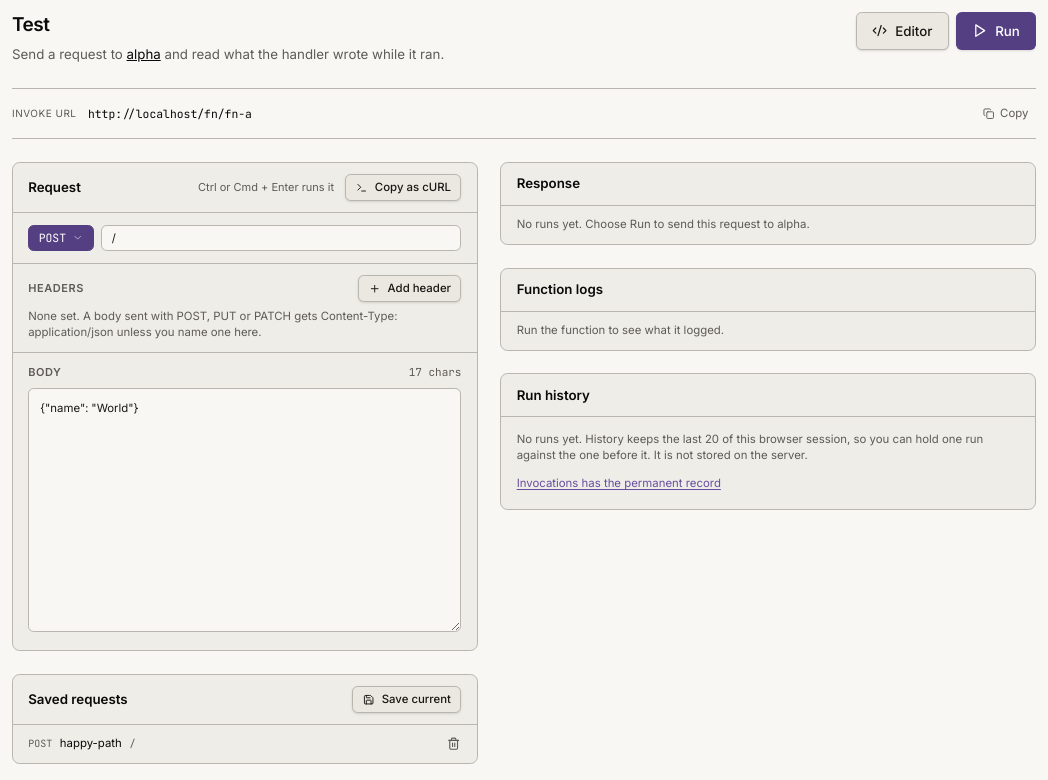
it: TestWorkbench › shows both log paths and the run in history after a failed run
Click the button "Run". click: {"x": 996, "y": 31}
box: x1=956 y1=12 x2=1036 y2=50
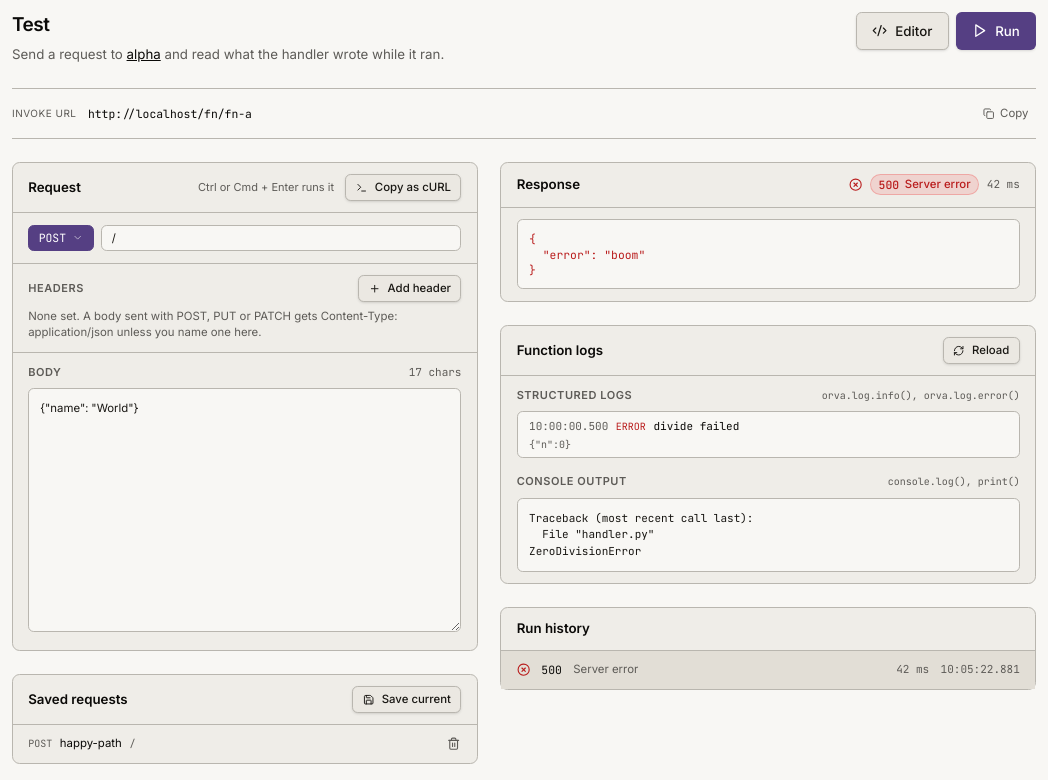
Check: the text "Server error" is shown, box x1=905 y1=177 x2=971 y2=192
Check: the text "42 ms" is shown, box x1=987 y1=176 x2=1020 y2=193
Check: the text "ZeroDivisionError" is shown, box x1=529 y1=511 x2=753 y2=558
